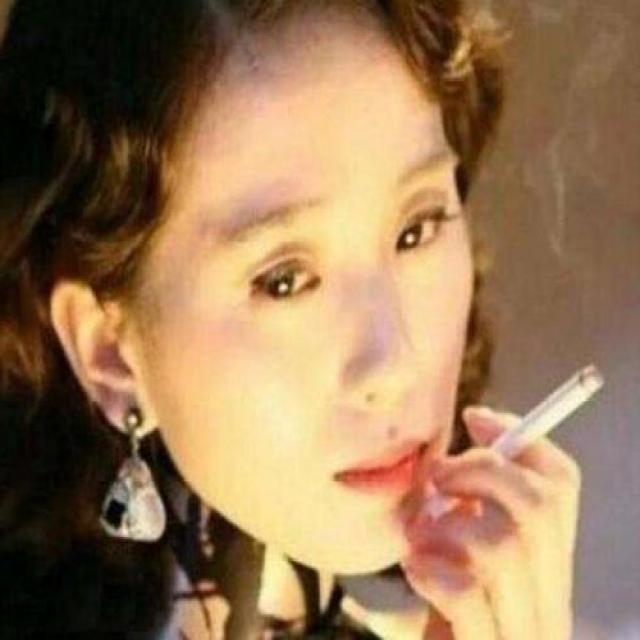smoking: (423, 352, 607, 528)
